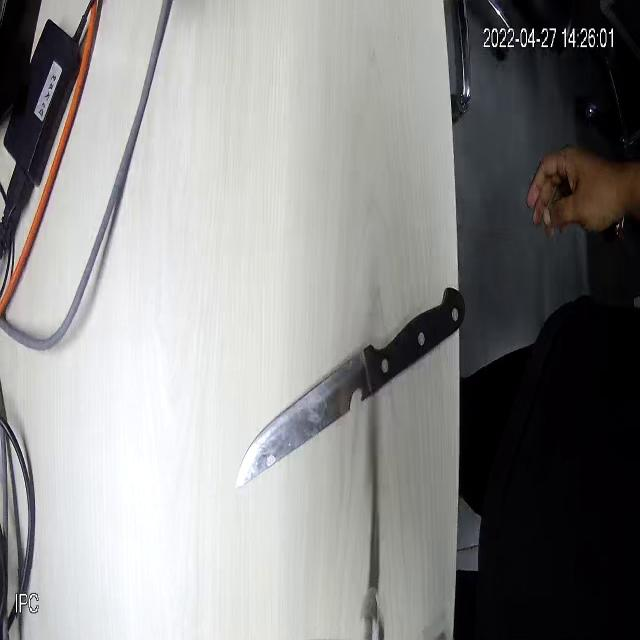knife: (231, 332, 446, 488)
